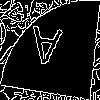A: (25, 25, 63, 76)
